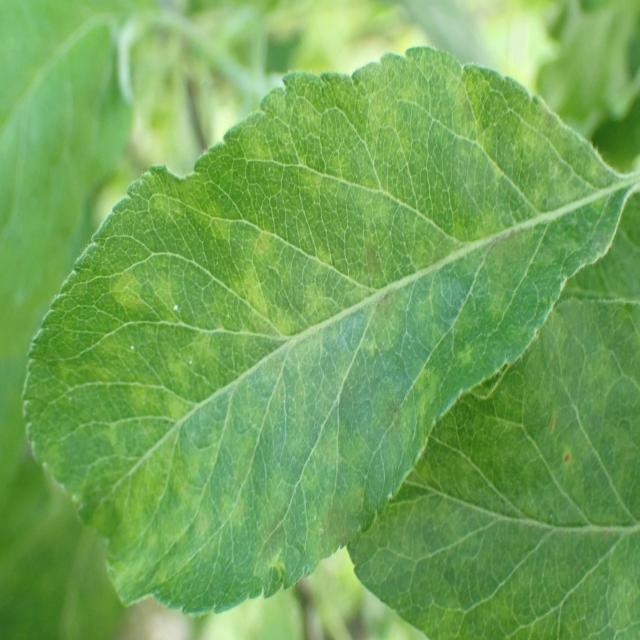scab: (41, 70, 626, 557)
